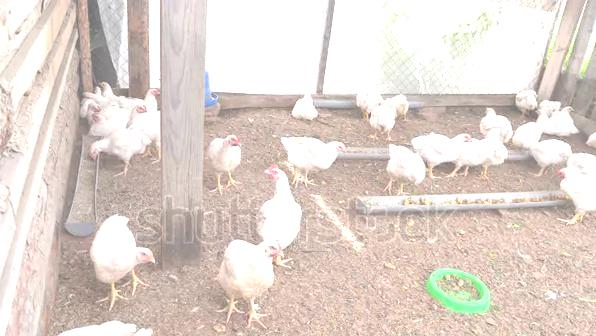Pollos: (92, 214, 154, 287), (219, 240, 285, 299), (257, 166, 301, 233), (554, 165, 596, 215), (287, 136, 345, 171), (90, 127, 148, 161), (528, 137, 572, 169), (387, 145, 422, 184), (418, 133, 467, 160), (210, 136, 244, 170), (481, 106, 514, 139), (128, 102, 162, 133), (537, 109, 578, 133), (291, 91, 318, 119), (372, 106, 396, 134), (90, 109, 125, 126), (515, 90, 539, 113)
